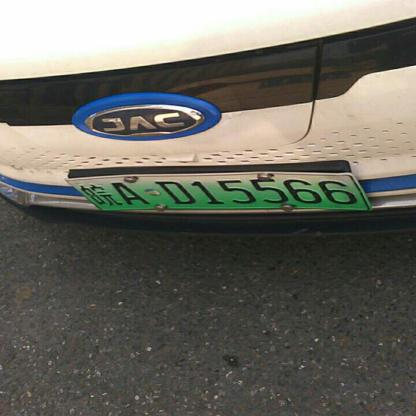lp: (64, 173, 370, 210)
